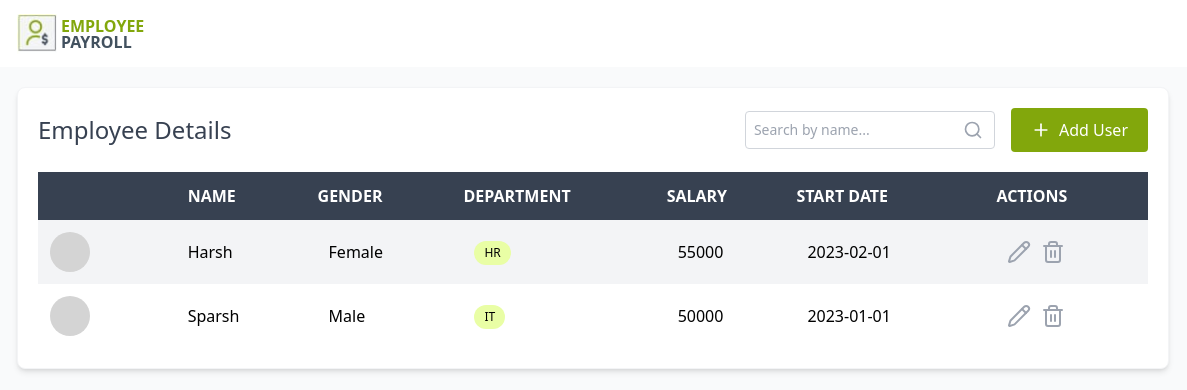
Dashboard Component › filters employees based on search term
Expected: the text "Sparsh" is shown, [176,284,316,348]
Expected: the text "Harsh" is shown, [176,220,316,284]
Type "Sparsh" into the field with placeholder "Search by name...".
click(870, 130); type("Sparsh")  # box [745,111,995,149]
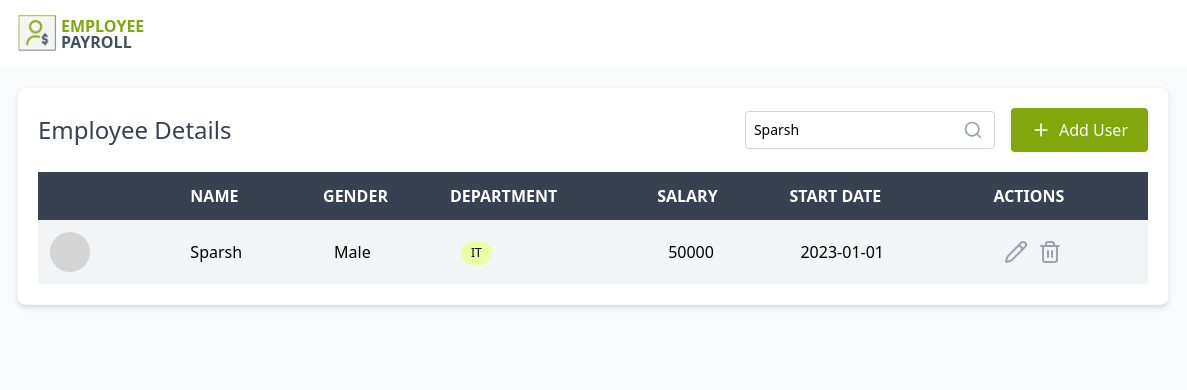
Expected: the text "Sparsh" is shown, [178,220,322,284]
Expected: the text "Harsh" is gone
